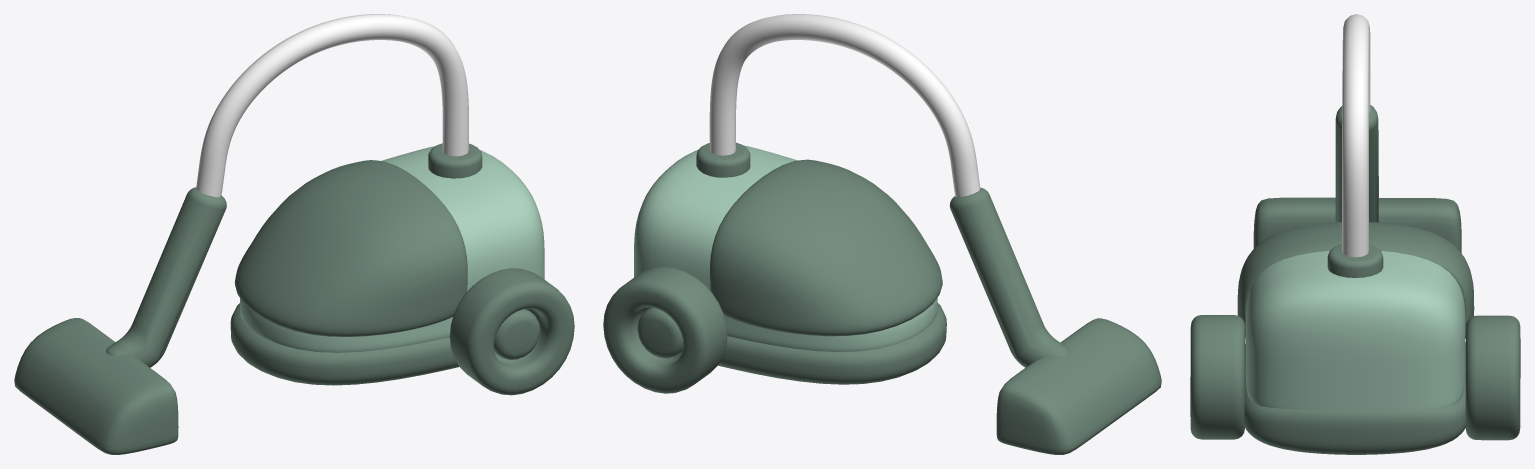
Rendered from vacuum.glb.
3 views of the same model, side by side, from view 1: azimuth 30°, elevation 25°; view 2: azimuth 150°, elevation 25°; view 3: azimuth 270°, elevation 25° (orthographic). The views are drawn at different scales.
Visible parts, largest first — view 1: 13 Vacuum | Cube.081, 13 Vacuum | Cube.001, 13 Vacuum | Cube.002; view 2: 13 Vacuum | Cube.081, 13 Vacuum | Cube.001, 13 Vacuum | Cube.002; view 3: 13 Vacuum | Cube.081, 13 Vacuum | Cube.001, 13 Vacuum | Cube.002.
Boxes of the visible parts, x1,y1,x2,y2 form: 13 Vacuum | Cube.081: (230, 143, 574, 395); 13 Vacuum | Cube.001: (14, 187, 226, 454); 13 Vacuum | Cube.002: (196, 14, 468, 197); 13 Vacuum | Cube.081: (603, 142, 946, 393); 13 Vacuum | Cube.001: (949, 187, 1161, 454); 13 Vacuum | Cube.002: (709, 14, 980, 197); 13 Vacuum | Cube.081: (1190, 222, 1520, 454); 13 Vacuum | Cube.001: (1253, 105, 1461, 252); 13 Vacuum | Cube.002: (1342, 14, 1370, 257).
Bounding box in the file's own units: 0.7841 × 0.557 × 0.4769.
